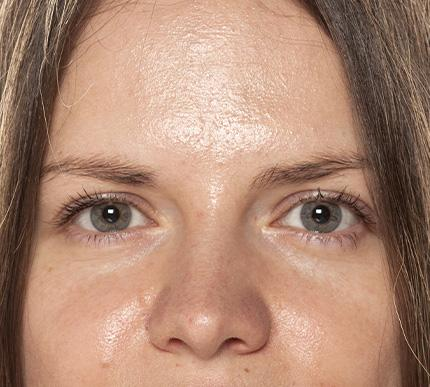Oily-Skin: (120, 15, 281, 146), (267, 265, 387, 387), (58, 270, 133, 348)
